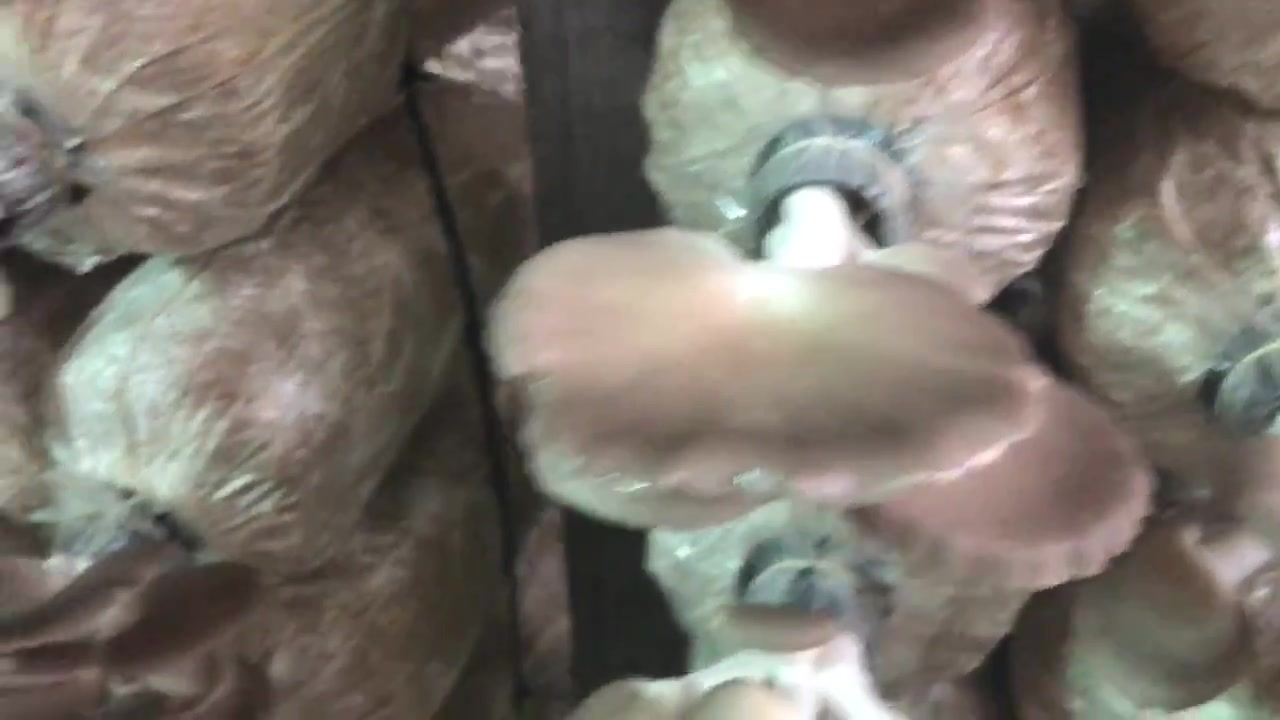nam: (484, 117, 1049, 538), (852, 375, 1153, 596), (581, 545, 913, 720), (725, 1, 991, 89)
